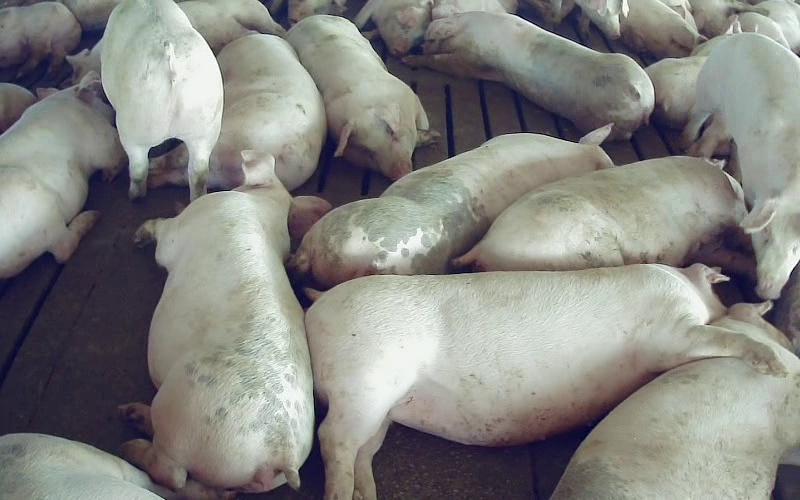pig: (305, 264, 786, 499), (121, 151, 329, 491), (290, 125, 611, 287), (552, 303, 799, 499), (454, 156, 755, 278), (403, 11, 653, 139), (685, 33, 799, 298), (0, 72, 126, 277), (286, 15, 437, 179), (101, 0, 222, 200), (208, 34, 326, 190), (645, 16, 741, 129), (353, 0, 432, 56)
